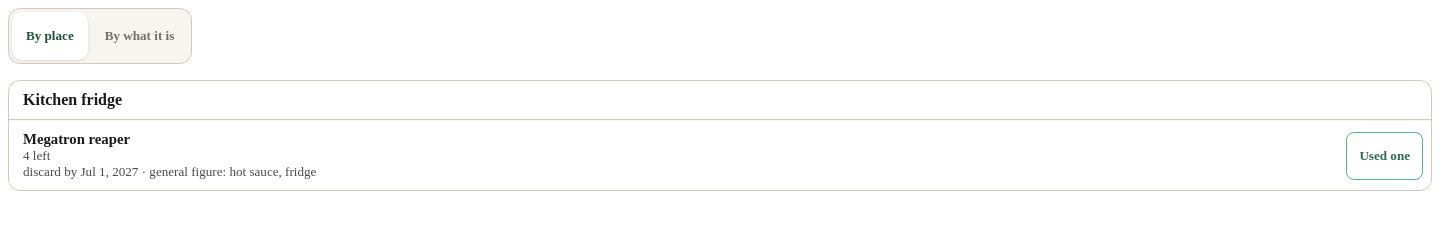
Test: the row's Used one / Used it up — one key per intent › Used it up after a failed Used one carries its own key: a different use is never answered with the first
Click the button with test id "pantry-row-action-put_up:jar-1" at (1385, 156), box [1346,132,1423,180]
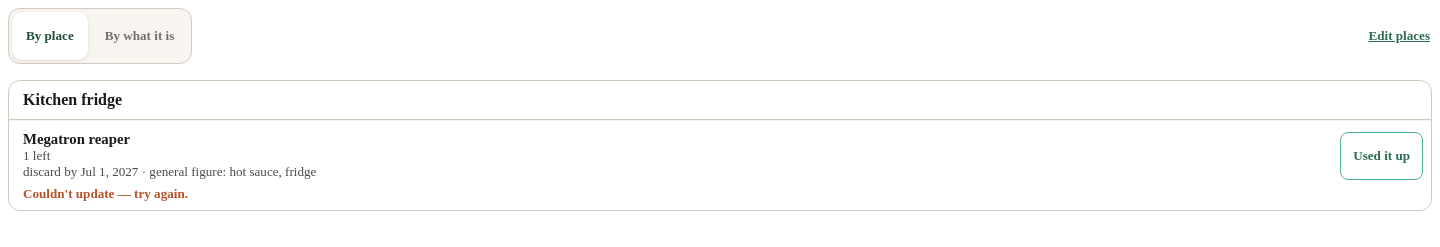
Check: the message "Couldn't update — try again." is shown, box [23,186,188,201]
Check: the button with test id "pantry-row-action-put_up:jar-1" reads "Used it up"
Click the button with test id "pantry-row-action-put_up:jar-1" at (1382, 156), box [1340,132,1423,180]
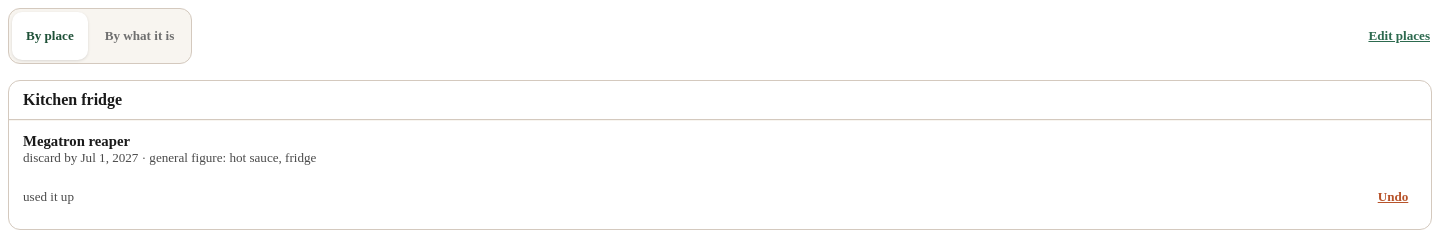
Check: the message "used it up Undo" is shown, box [17,173,1423,225]
